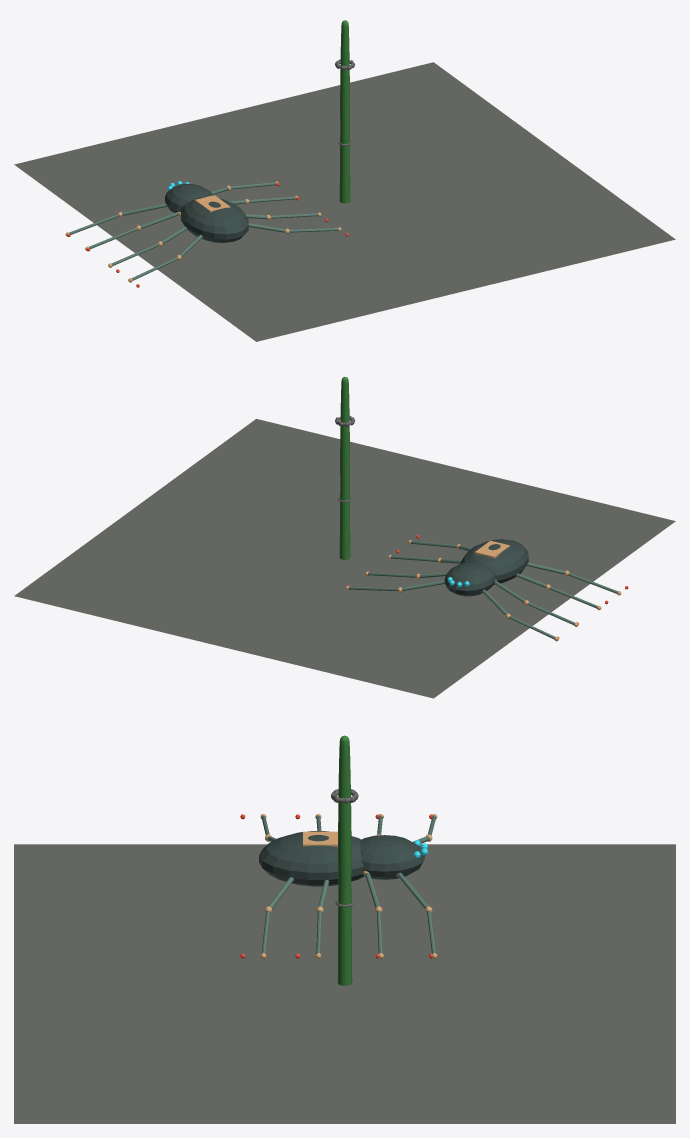
The model's file is biomech13.glb.
The picture shows the model from 3 angles, top to bottom: view 1: azimuth 30°, elevation 25°; view 2: azimuth 150°, elevation 25°; view 3: azimuth 270°, elevation 25°; orthographic projection. The views are drawn at different scales.
Parts seen in each view (by area): view 1: Collection_MESH_Collection_MESH_Collection_MESH_Podloga_Rend, Pajak_Odwłok, Roslina_Lodyga, Pajak_Glowotulow; view 2: Collection_MESH_Collection_MESH_Collection_MESH_Podloga_Rend, Roslina_Lodyga, Pajak_Odwłok, Pajak_Glowotulow; view 3: Collection_MESH_Collection_MESH_Collection_MESH_Podloga_Rend, Pajak_Odwłok, Roslina_Lodyga, Pajak_Glowotulow.
Boxes of the visible parts, box(x1,y1,x2,y2) form: Collection_MESH_Collection_MESH_Collection_MESH_Podloga_Rend: box(14, 62, 675, 341); Pajak_Odwłok: box(181, 196, 248, 242); Roslina_Lodyga: box(339, 20, 350, 203); Pajak_Glowotulow: box(165, 183, 213, 216); Collection_MESH_Collection_MESH_Collection_MESH_Podloga_Rend: box(14, 419, 675, 698); Roslina_Lodyga: box(339, 377, 350, 559); Pajak_Odwłok: box(460, 539, 528, 584); Pajak_Glowotulow: box(444, 561, 495, 596); Collection_MESH_Collection_MESH_Collection_MESH_Podloga_Rend: box(14, 844, 675, 1123); Pajak_Odwłok: box(259, 831, 363, 886); Roslina_Lodyga: box(337, 735, 352, 985); Pajak_Glowotulow: box(360, 835, 424, 879).
Size of what is drawn, in the model's own units: 9.78 by 3.86 by 9.
